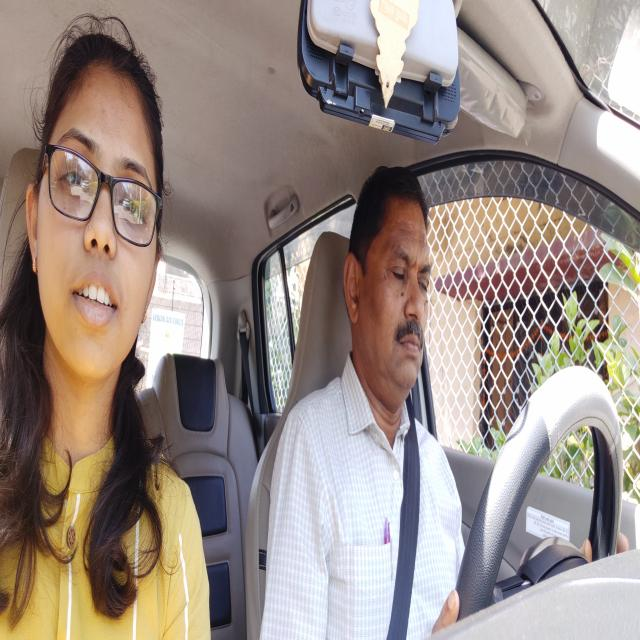drowsy: (344, 131, 443, 427)
person: (20, 18, 178, 416)
